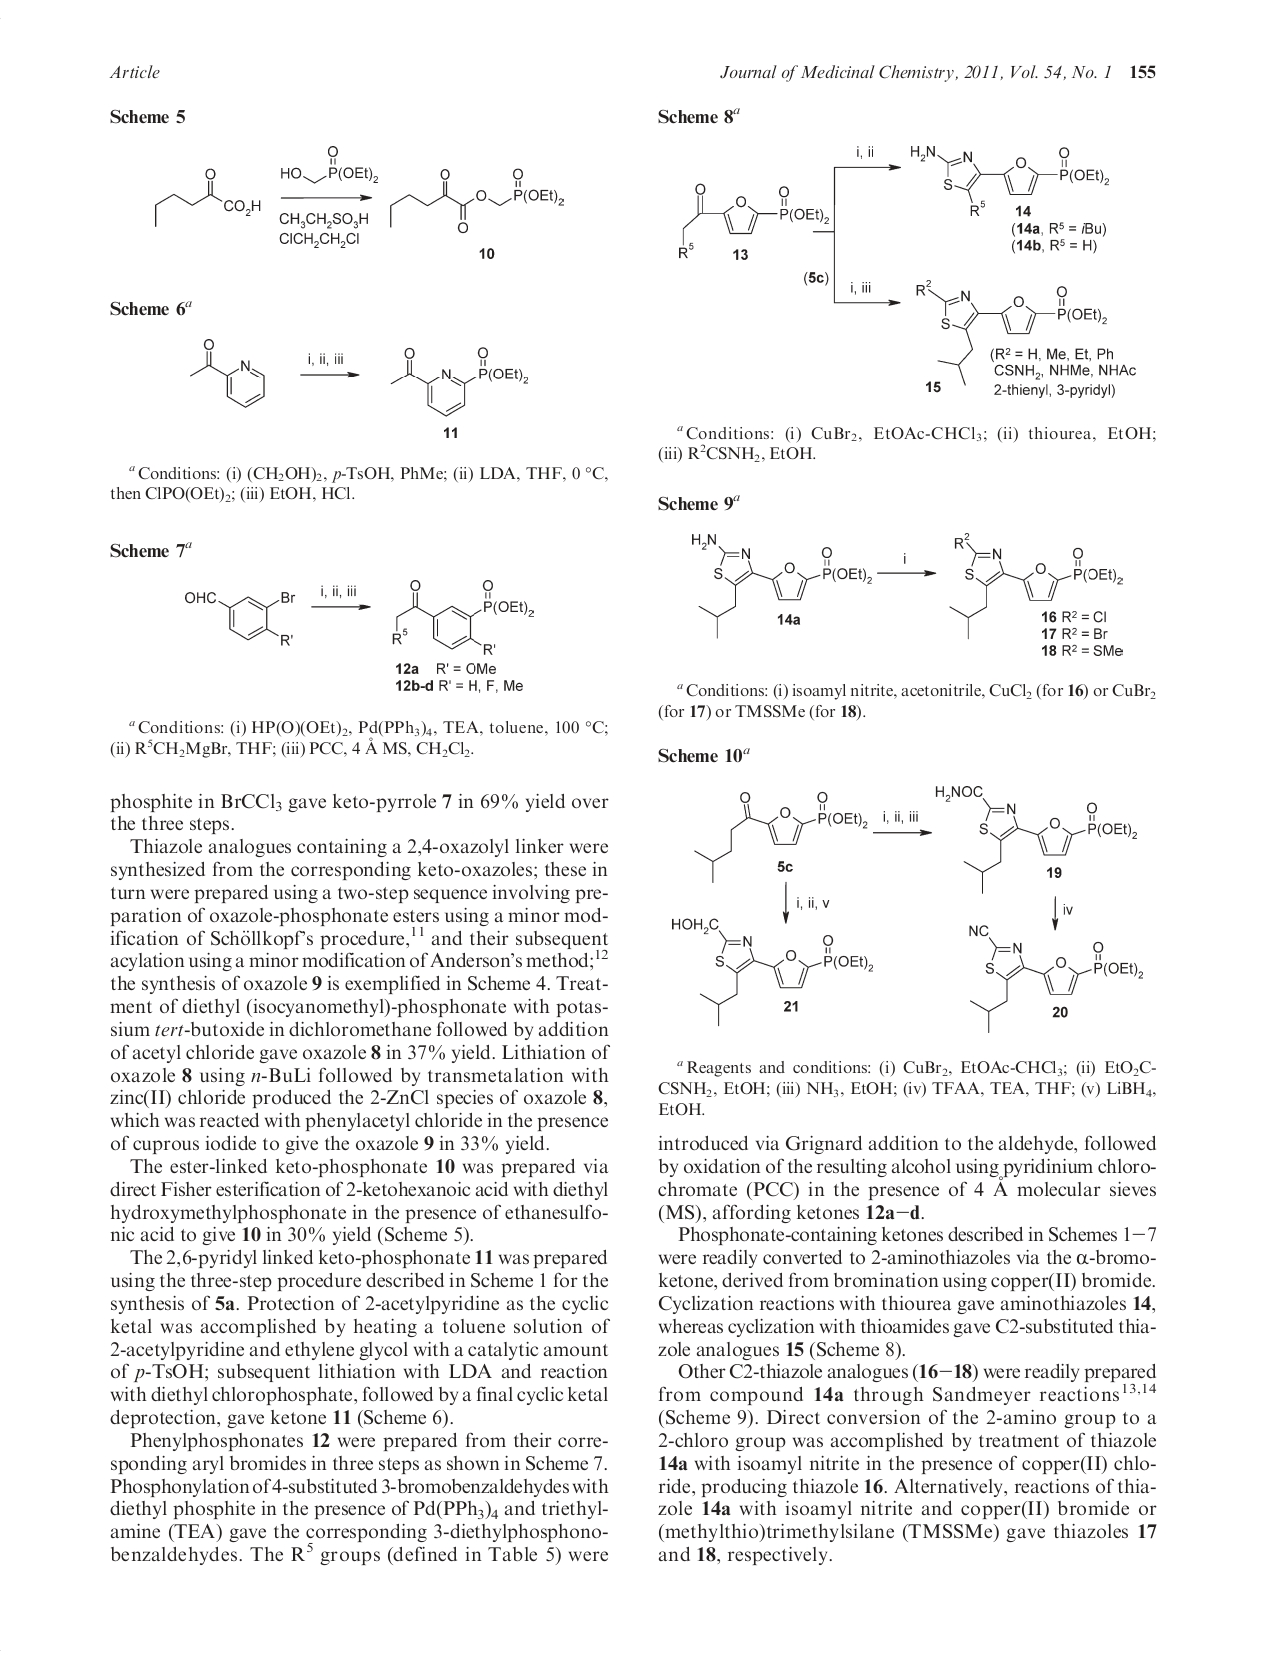exist_molecular: (931, 778, 1138, 896), (910, 270, 1110, 387), (668, 914, 875, 1025), (957, 922, 1148, 1036), (690, 528, 876, 638), (946, 531, 1126, 641), (907, 132, 1114, 219), (692, 789, 870, 884), (670, 174, 832, 261), (390, 573, 539, 657), (387, 164, 570, 231), (390, 340, 529, 419), (176, 571, 302, 650), (152, 165, 265, 231), (181, 332, 271, 414), (277, 145, 382, 188)
